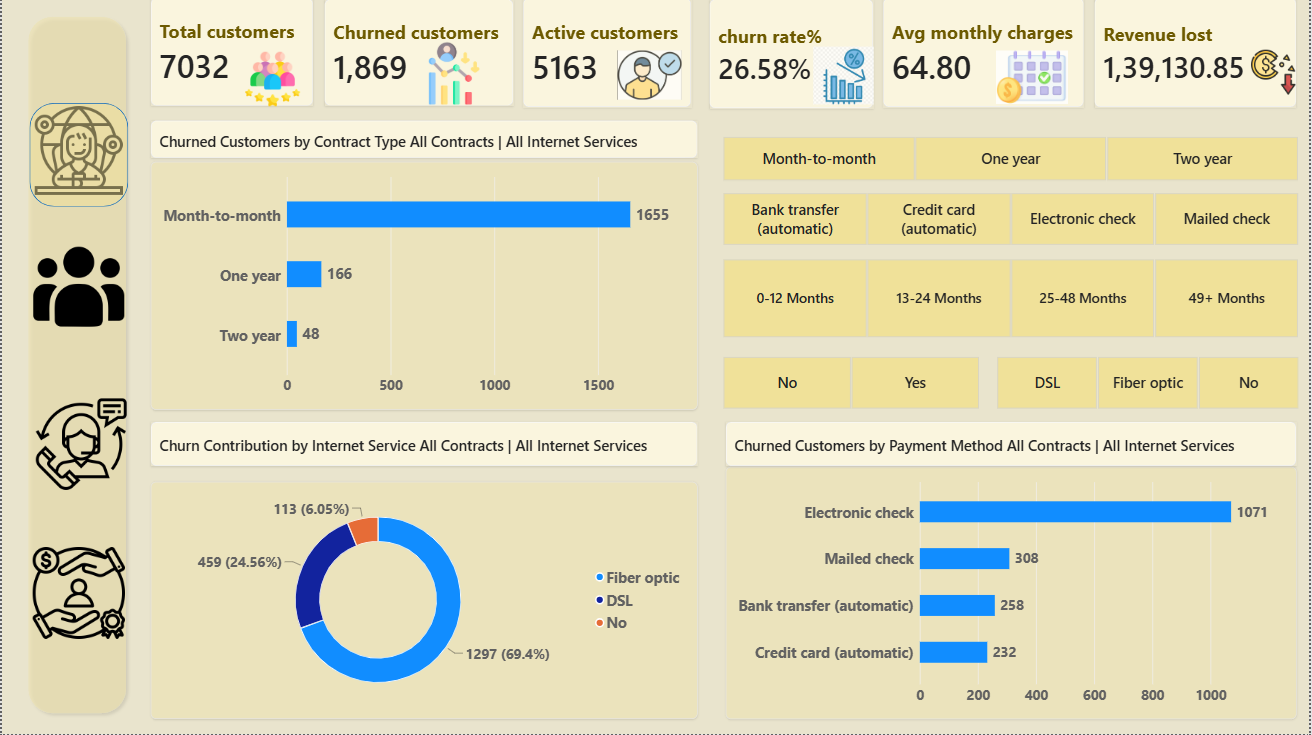

Layout of this report page (visuals, bound fields, positions):
{"tool":"powerbi","page":{"name":"Executive overview","canvas":[1920,1080],"ordinal":1},"visuals":[{"type":"cardVisual","fields":{"Data":["telco_customer_churn_data.Total customers"]},"box":[218.2,0,238.8,158.5],"z":0},{"type":"cardVisual","fields":{"Data":["telco_customer_churn_data.churned customers"]},"box":[473.4,2.1,277.9,156.4],"z":1000},{"type":"cardVisual","fields":{"Data":["telco_customer_churn_data.Active customers"]},"box":[765.7,0,247,160.5],"z":2000},{"type":"cardVisual","fields":{"Data":["telco_customer_churn_data.churn rate%"]},"box":[1037.4,2.1,240.8,160.5],"z":3000},{"type":"cardVisual","fields":{"Data":["telco_customer_churn_data.Revenue lost"]},"box":[1603.4,0,296.4,160.5],"z":4000},{"type":"cardVisual","fields":{"Data":["telco_customer_churn_data.Avg monthly charges"]},"box":[1292.6,0,294.3,160.5],"z":5000},{"type":"shape","box":[29.4,18.9,161.8,1040.1],"z":6000},{"type":"clusteredBarChart","fields":{"Category":["telco_customer_churn_data.Contract"],"Y":["telco_customer_churn_data.churned customers"]},"box":[218.2,240.8,802.7,364.3],"z":7000},{"type":"clusteredBarChart","fields":{"Category":["telco_customer_churn_data.PaymentMethod"],"Y":["telco_customer_churn_data.churned customers"]},"box":[1062.1,687.5,837.7,370.5],"z":8000},{"type":"donutChart","fields":{"Category":["telco_customer_churn_data.InternetService"],"Y":["telco_customer_churn_data.churned customers"]},"box":[218.2,710.1,802.7,347.9],"z":9000},{"type":"slicer","fields":{"Values":["telco_customer_churn_data.Contract"]},"box":[1038,201.7,882.5,67.2],"z":10000},{"type":"slicer","fields":{"Values":["telco_customer_churn_data.PaymentMethod"]},"box":[1038,283.7,882.5,79.8],"z":11000},{"type":"slicer","fields":{"Values":["telco_customer_churn_data.InternetService"]},"box":[1439.3,525.3,481.2,79.8],"z":12000},{"type":"slicer","fields":{"Values":["telco_customer_churn_data.Churn"]},"box":[1038,525.3,413.9,79.8],"z":13000},{"type":"slicer","fields":{"Values":["telco_customer_churn_data.Tenure Group"]},"box":[1038,382.4,882.5,117.7],"z":14000},{"type":"image","box":[594.9,61.7,137.9,96.7],"z":15000},{"type":"image","box":[337.6,78.2,119.4,80.3],"z":16000},{"type":"image","box":[893.3,76.2,113.2,72],"z":17000},{"type":"image","box":[1189.7,70,88.5,88.5],"z":18000},{"type":"image","box":[1436.7,76.2,150.3,78.2],"z":19000},{"type":"image","box":[1829.9,61.7,70,92.6],"z":20000},{"type":"cardVisual","fields":{"Data":["telco_customer_churn_data.Contract Title"]},"box":[218.2,179.1,802.7,55.6],"z":21000},{"type":"cardVisual","fields":{"Data":["telco_customer_churn_data.Internet Service Title"]},"box":[218.2,621.6,802.7,65.9],"z":22000},{"type":"cardVisual","fields":{"Data":["telco_customer_churn_data.Payment Title"]},"box":[1062.1,621.6,837.7,65.9],"z":23000},{"type":"image","box":[45.9,154.1,133.9,139.4],"z":23001},{"type":"image","box":[45.9,354,133.9,139.4],"z":23002},{"type":"image","box":[49.5,585.1,133.9,139.4],"z":23003},{"type":"image","box":[40.4,803.4,144.9,139.4],"z":23004},{"type":"shape","box":[40.4,154.1,144.9,152.2],"z":23005}]}

Visuals, with their boxes in screenshot pixels (x1, y1, x2, y2), scaled from the page's 1920x1080 canvas onto the 1312x735 screenshot:
cardVisual - telco_customer_churn_data.Total customers: box=[149, 0, 312, 108]
cardVisual - telco_customer_churn_data.churned customers: box=[323, 1, 513, 108]
cardVisual - telco_customer_churn_data.Active customers: box=[523, 0, 692, 109]
cardVisual - telco_customer_churn_data.churn rate%: box=[709, 1, 873, 111]
cardVisual - telco_customer_churn_data.Revenue lost: box=[1096, 0, 1298, 109]
cardVisual - telco_customer_churn_data.Avg monthly charges: box=[883, 0, 1084, 109]
shape: box=[20, 13, 131, 721]
clusteredBarChart - telco_customer_churn_data.Contract x telco_customer_churn_data.churned customers: box=[149, 164, 698, 412]
clusteredBarChart - telco_customer_churn_data.PaymentMethod x telco_customer_churn_data.churned customers: box=[726, 468, 1298, 720]
donutChart - telco_customer_churn_data.InternetService x telco_customer_churn_data.churned customers: box=[149, 483, 698, 720]
slicer - telco_customer_churn_data.Contract: box=[709, 137, 1311, 183]
slicer - telco_customer_churn_data.PaymentMethod: box=[709, 193, 1311, 247]
slicer - telco_customer_churn_data.InternetService: box=[984, 357, 1311, 412]
slicer - telco_customer_churn_data.Churn: box=[709, 357, 992, 412]
slicer - telco_customer_churn_data.Tenure Group: box=[709, 260, 1311, 340]
image: box=[407, 42, 501, 108]
image: box=[231, 53, 312, 108]
image: box=[610, 52, 688, 101]
image: box=[813, 48, 873, 108]
image: box=[982, 52, 1084, 105]
image: box=[1250, 42, 1298, 105]
cardVisual - telco_customer_churn_data.Contract Title: box=[149, 122, 698, 160]
cardVisual - telco_customer_churn_data.Internet Service Title: box=[149, 423, 698, 468]
cardVisual - telco_customer_churn_data.Payment Title: box=[726, 423, 1298, 468]
image: box=[31, 105, 123, 200]
image: box=[31, 241, 123, 336]
image: box=[34, 398, 125, 493]
image: box=[28, 547, 127, 642]
shape: box=[28, 105, 127, 208]
